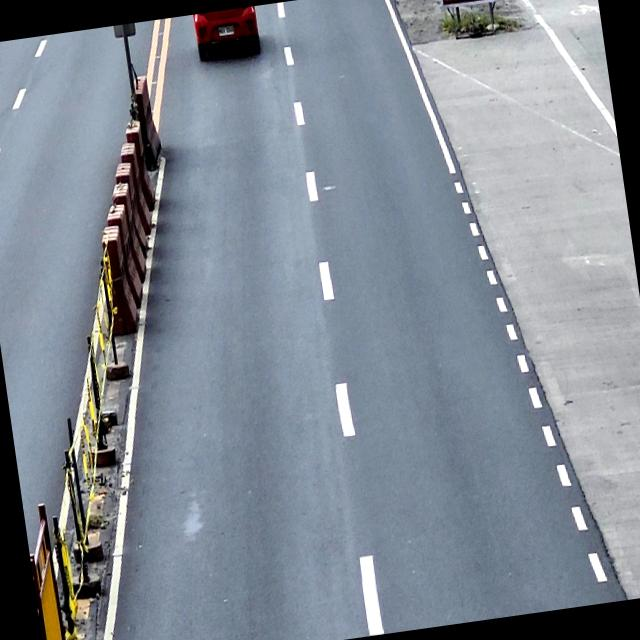Car: (193, 6, 262, 62)
License-Plate: (217, 22, 236, 37)
